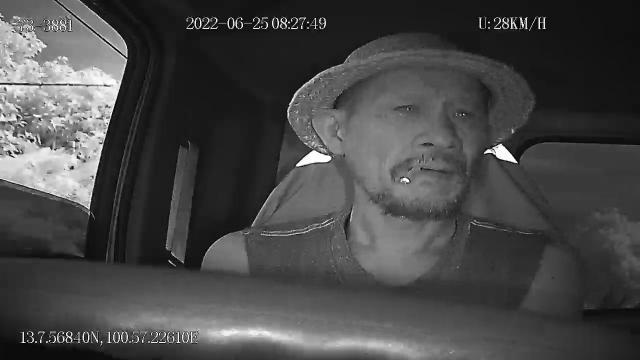SafeDriving: (388, 93, 427, 119), (443, 100, 478, 125)
Smoking: (398, 162, 426, 186)
